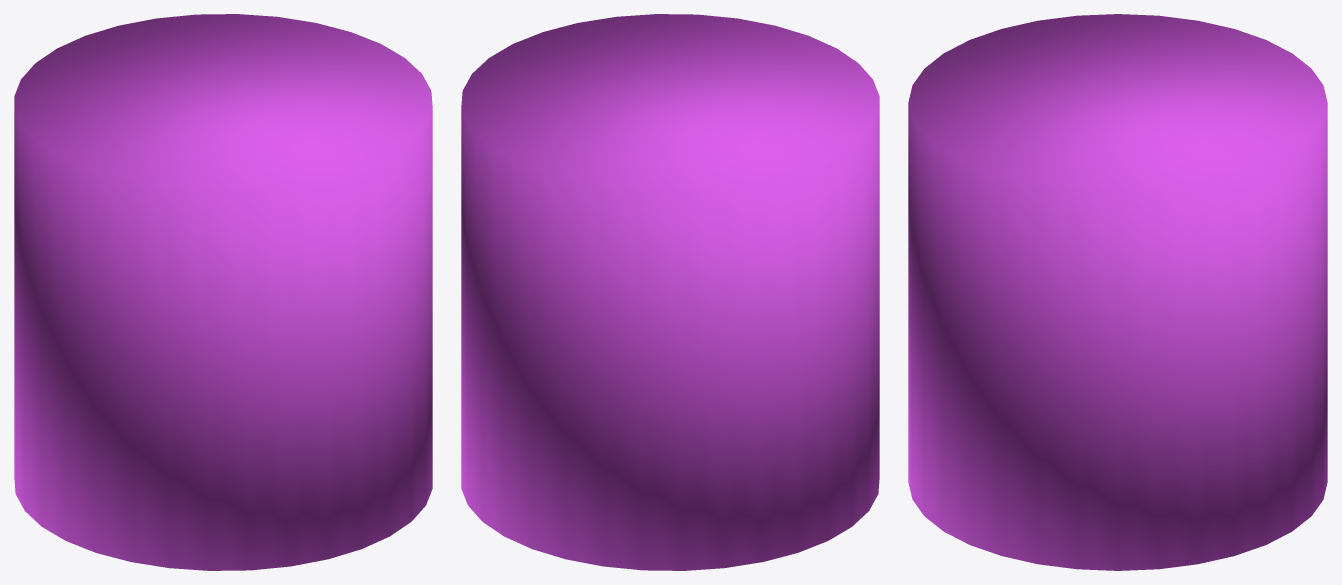
The picture shows the model from 3 angles, left to right: view 1: azimuth 30°, elevation 25°; view 2: azimuth 150°, elevation 25°; view 3: azimuth 270°, elevation 25°; orthographic projection.
Visible parts, largest first — view 1: Cylinder; view 2: Cylinder; view 3: Cylinder.
Boxes of the visible parts, <box> form: Cylinder: <box>14,14,432,570</box>; Cylinder: <box>461,14,879,570</box>; Cylinder: <box>908,14,1327,570</box>.
Size of the model in its own units: 2 by 2 by 2.
